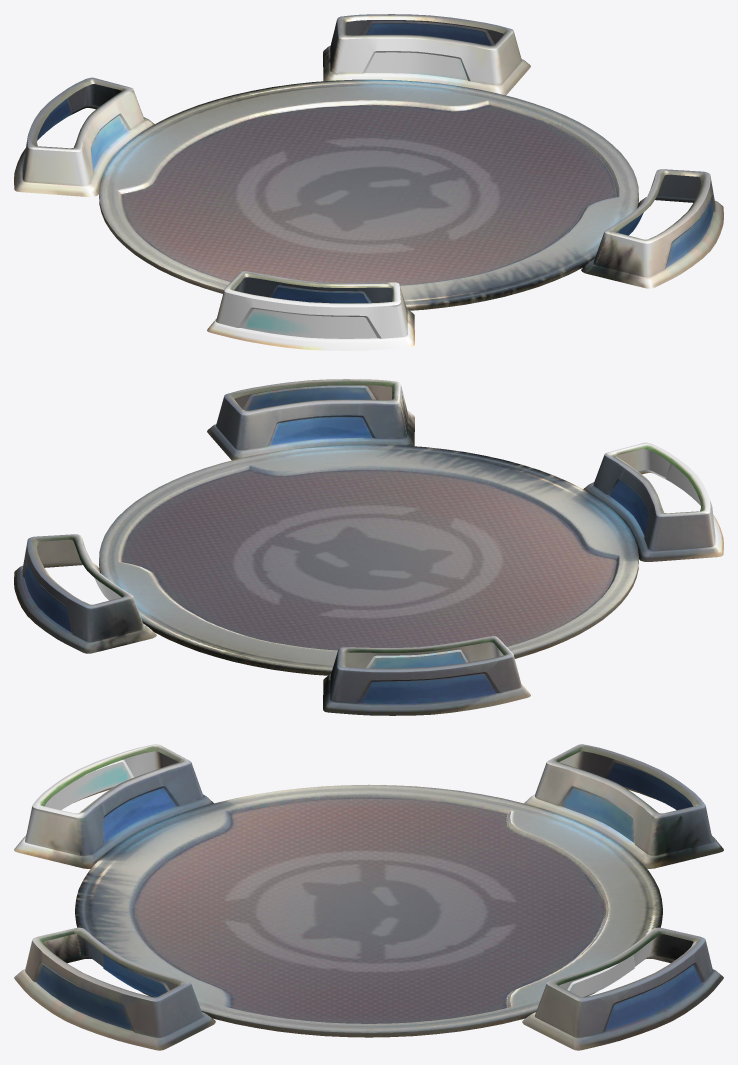
The model's file is pref_sm_4v4beachtech_bk_waterblock_c01a_lv2.fbx.
The picture shows the model from 3 angles, top to bottom: view 1: azimuth 30°, elevation 25°; view 2: azimuth 150°, elevation 25°; view 3: azimuth 270°, elevation 25°; orthographic projection. The views are drawn at different scales.
Visible parts, largest first — view 1: pref_sm_4v4beachtech_bk_waterblock_c01a_lv2; view 2: pref_sm_4v4beachtech_bk_waterblock_c01a_lv2; view 3: pref_sm_4v4beachtech_bk_waterblock_c01a_lv2.
Part boxes in pixels (left/top/right/bottom): pref_sm_4v4beachtech_bk_waterblock_c01a_lv2: left=14, top=14, right=723, bottom=350; pref_sm_4v4beachtech_bk_waterblock_c01a_lv2: left=14, top=379, right=723, bottom=715; pref_sm_4v4beachtech_bk_waterblock_c01a_lv2: left=14, top=744, right=723, bottom=1050.
Size of the model in its own units: 15.05 by 1.08 by 16.51.
